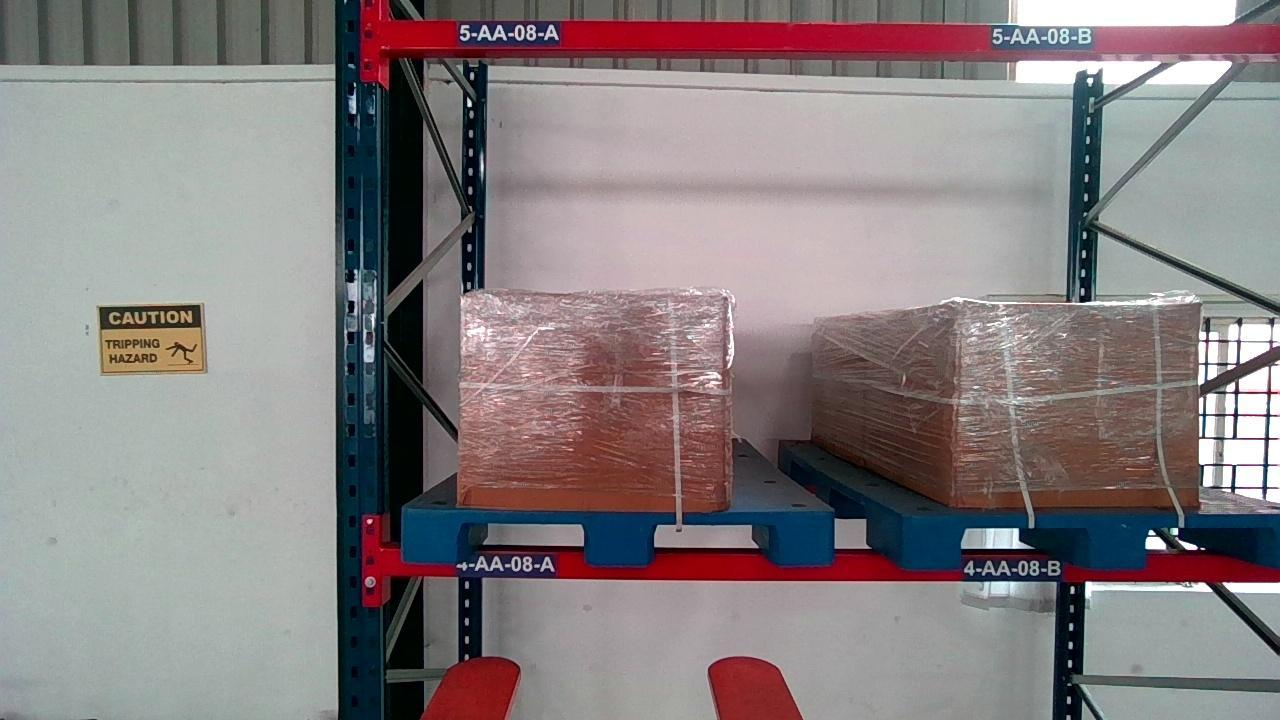h_rack: (381, 547, 1279, 579), (380, 21, 1279, 49)
small_pallet: (401, 509, 835, 563), (901, 514, 1279, 567)
